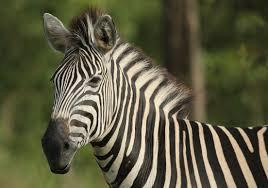Zebra: (42, 8, 267, 187)
